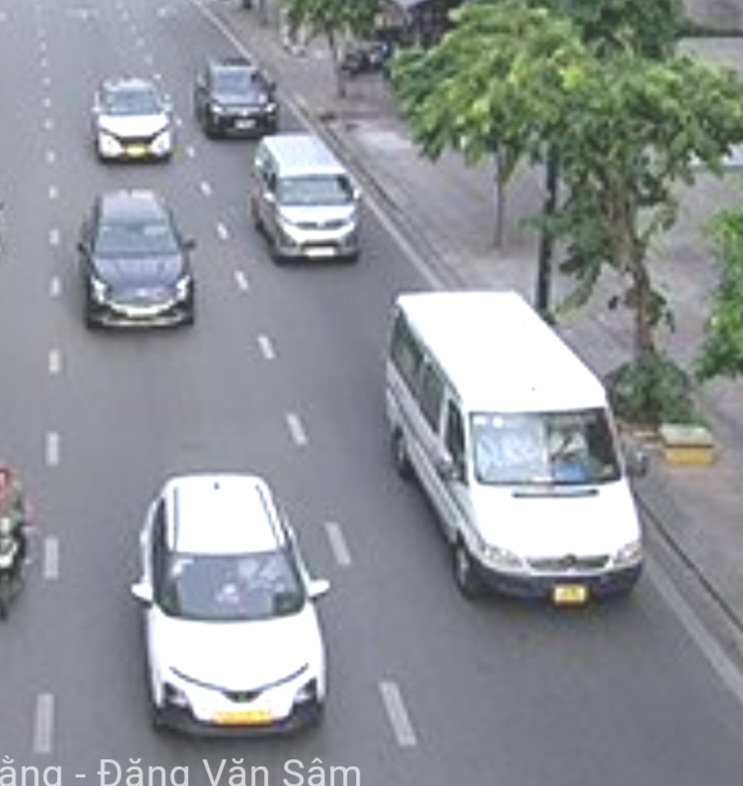car: (389, 296, 645, 604), (138, 473, 328, 737), (81, 192, 197, 333), (251, 137, 362, 260), (194, 58, 279, 140), (91, 78, 174, 160)
